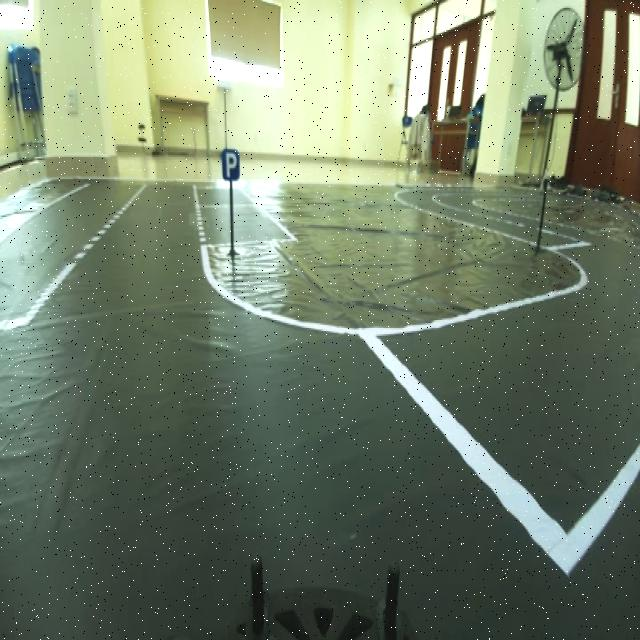parking: (220, 145, 240, 186)
